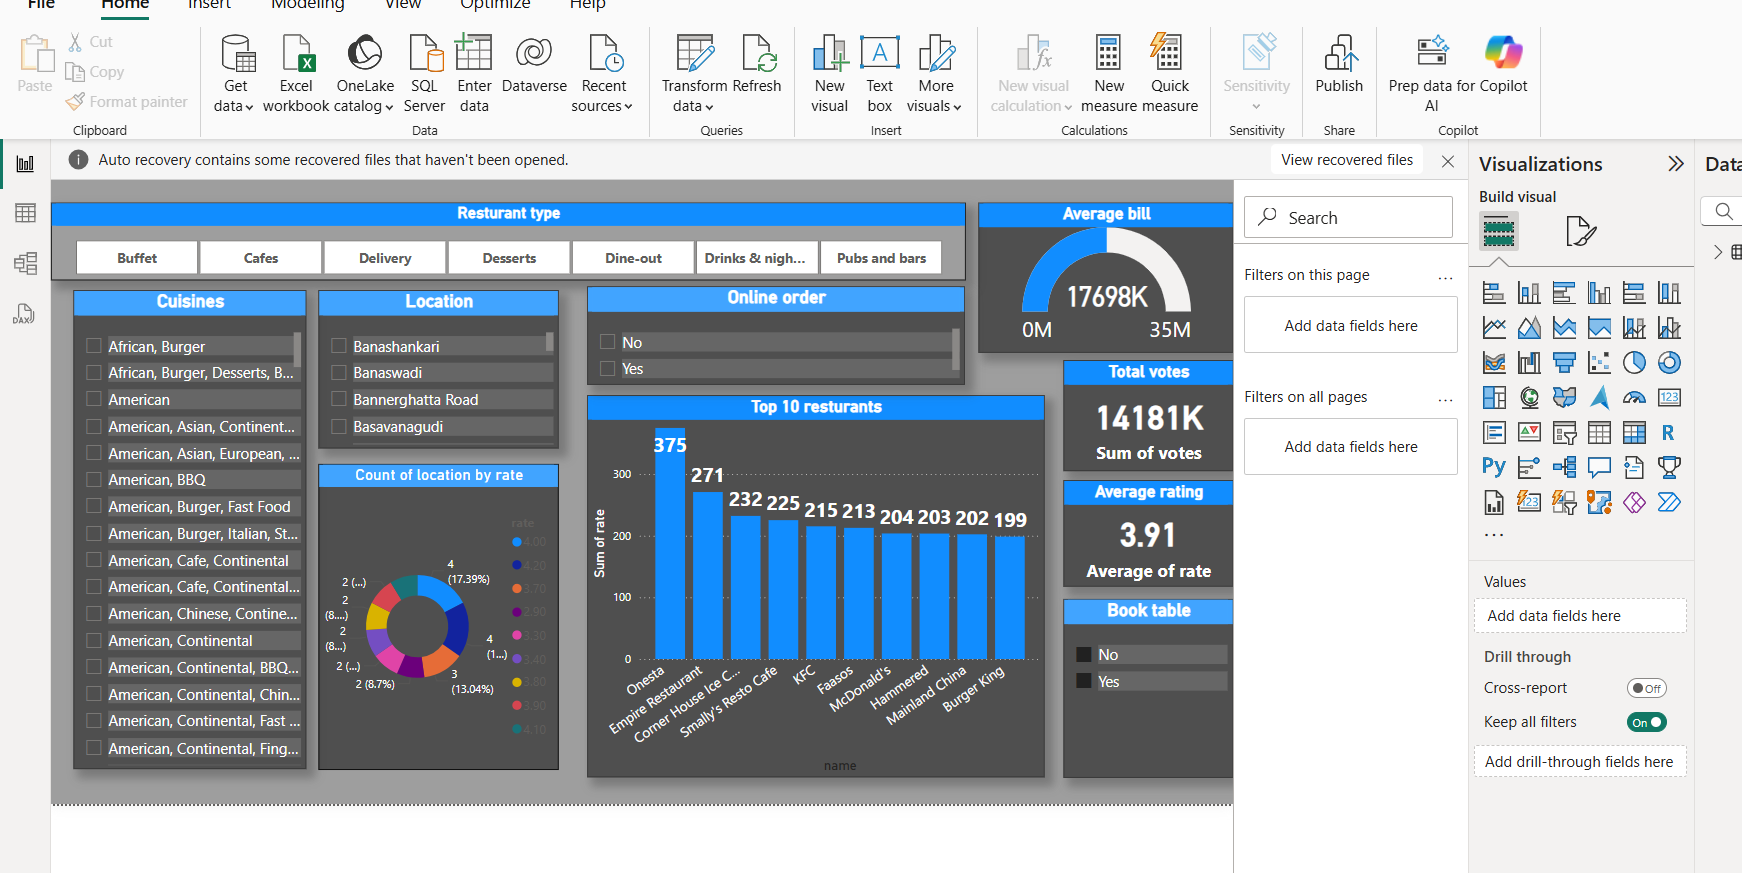

The page's visual inventory and layout, read from the dashboard file:
{"tool":"powerbi","page":{"name":"Page 1","canvas":[1280,720],"ordinal":0},"visuals":[{"type":"slicer","title":"Resturant type","fields":{"Values":["zomato.listed_in(type)"]},"box":[0,68.8,990,83.8],"z":0},{"type":"gauge","title":"Average bill","fields":{"Y":["Sum(zomato.approx_cost(for two people))"]},"box":[1003.8,68.8,276.2,162.5],"z":1000},{"type":"card","title":"Total votes","fields":{"Values":["Sum(zomato.votes)"]},"box":[1096.2,240,183.8,120],"z":2000},{"type":"card","title":"Average rating","fields":{"Values":["Avg(zomato.rate)"]},"box":[1096.2,370,183.8,115],"z":3000},{"type":"columnChart","title":"Top 10 resturants","fields":{"Category":["zomato.name"],"Y":["Sum(zomato.rate)"]},"box":[581.2,277.5,495,413.8],"z":4000},{"type":"slicer","title":"Online order","fields":{"Values":["zomato.online_order"]},"box":[581.2,160,408.8,106.2],"z":5000},{"type":"slicer","title":"Book table","fields":{"Values":["zomato.book_table"]},"box":[1096.2,497.5,183.8,193.8],"z":6000},{"type":"slicer","title":"Cuisines","fields":{"Values":["zomato.cuisines"]},"box":[24.4,163.8,251.8,518.3],"z":7000},{"type":"slicer","title":"Location","fields":{"Values":["zomato.location"]},"box":[290,163.8,260,171.2],"z":8000},{"type":"donutChart","fields":{"Category":["zomato.rate"],"Y":["CountNonNull(zomato.location)"]},"box":[290,351.2,260,331.2],"z":9000}]}

Visuals, with their boxes on the page's 1280x720 design canvas (x1, y1, x2, y2). These are canvas units, not pixel positions in the 1742x873 screenshot, which may show the page scaled, cropped or inside an application window:
"Resturant type" slicer: pyautogui.locateOnScreen(0, 69, 990, 153)
"Average bill" gauge: pyautogui.locateOnScreen(1004, 69, 1280, 231)
"Total votes" card: pyautogui.locateOnScreen(1096, 240, 1280, 360)
"Average rating" card: pyautogui.locateOnScreen(1096, 370, 1280, 485)
"Top 10 resturants" columnChart: pyautogui.locateOnScreen(581, 278, 1076, 691)
"Online order" slicer: pyautogui.locateOnScreen(581, 160, 990, 266)
"Book table" slicer: pyautogui.locateOnScreen(1096, 498, 1280, 691)
"Cuisines" slicer: pyautogui.locateOnScreen(24, 164, 276, 682)
"Location" slicer: pyautogui.locateOnScreen(290, 164, 550, 335)
donutChart - zomato.rate x CountNonNull(zomato.location): pyautogui.locateOnScreen(290, 351, 550, 682)
